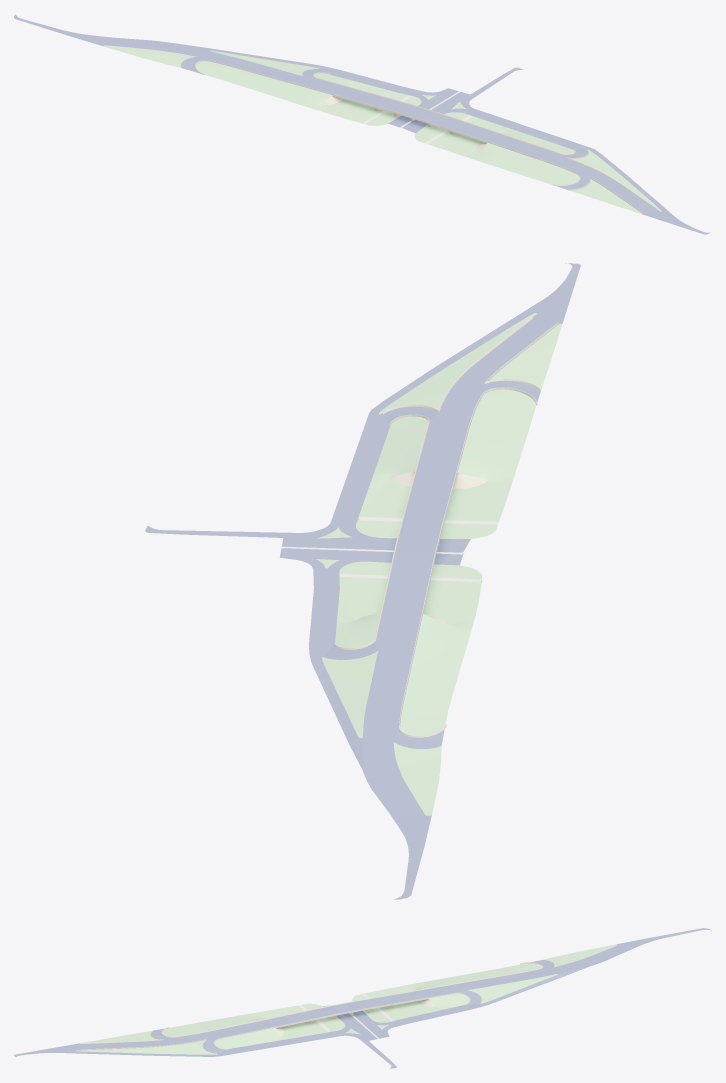
The model's file is Riskulov-Emtsov3.glb.
The picture shows the model from 3 angles, top to bottom: view 1: azimuth 30°, elevation 25°; view 2: azimuth 150°, elevation 25°; view 3: azimuth 270°, elevation 25°; orthographic projection. The views are drawn at different scales.
Parts seen in each view (by area): view 1: SketchUp.012, SketchUp.006, SketchUp.024; view 2: SketchUp.012, SketchUp.006, SketchUp.024, SketchUp.003; view 3: SketchUp.012, SketchUp.006, SketchUp.024, SketchUp.003.
Part boxes in pixels (left/top/right/bottom): SketchUp.012: left=14, top=14, right=710, bottom=234; SketchUp.006: left=103, top=45, right=661, bottom=213; SketchUp.024: left=194, top=60, right=656, bottom=213; SketchUp.012: left=145, top=263, right=580, bottom=899; SketchUp.006: left=316, top=313, right=562, bottom=815; SketchUp.024: left=333, top=316, right=558, bottom=737; SketchUp.003: left=281, top=517, right=498, bottom=582; SketchUp.012: left=14, top=928, right=711, bottom=1068; SketchUp.006: left=75, top=944, right=617, bottom=1054; SketchUp.024: left=80, top=962, right=543, bottom=1053; SketchUp.003: left=298, top=993, right=393, bottom=1038.
Bounding box in the file's own units: 391 × 8.28 × 819.
Materials: 5 (5 with a texture image).
